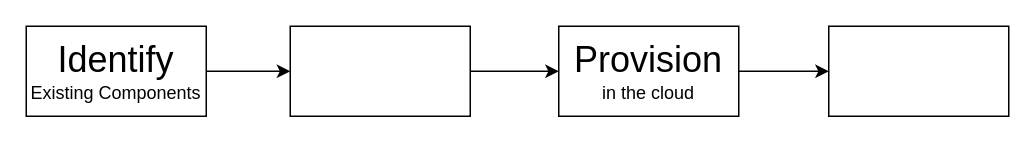
Image size: 1035x143. Some labels were removed from this diagram. The centre of each missing label's shape, as x and y in pixels:
"Collate All provisioned details" goes at [918,70].
"Suggest GCP Equivalent" goes at [379,70].
